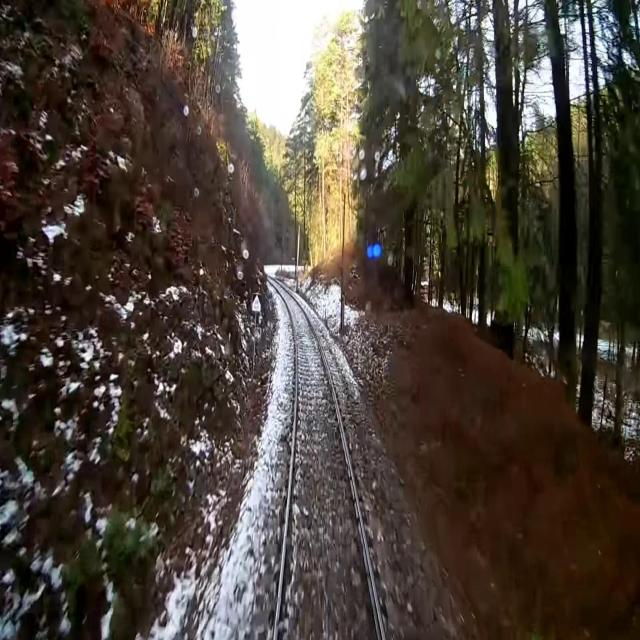rail-track: (267, 276, 381, 639)
